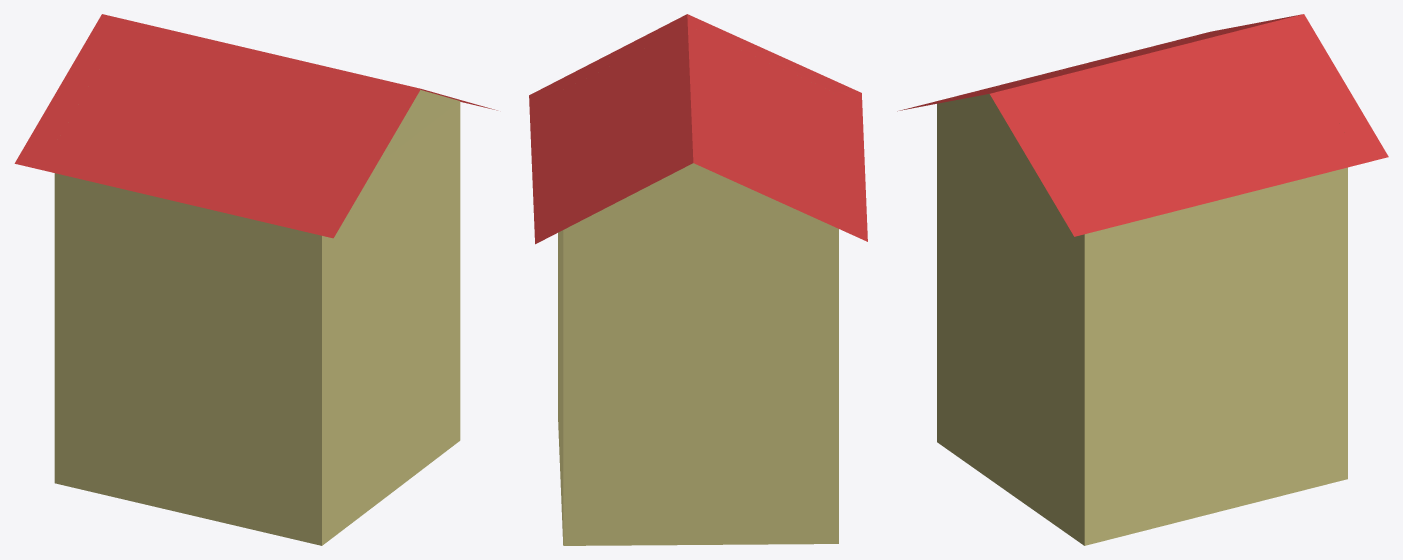
3 renders of one model, left to right at view 1: azimuth 30°, elevation 25°; view 2: azimuth 150°, elevation 25°; view 3: azimuth 270°, elevation 25°, orthographic. The views are drawn at different scales.
Bounding box in the file's own units: 8.17 × 8.29 × 7.61.
